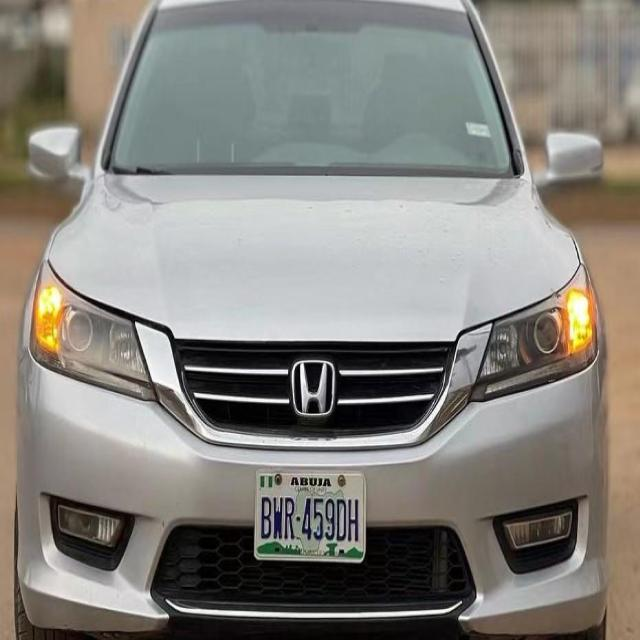Nigerian License Plate - vdataset benjamin-daria: (253, 464, 368, 567)
